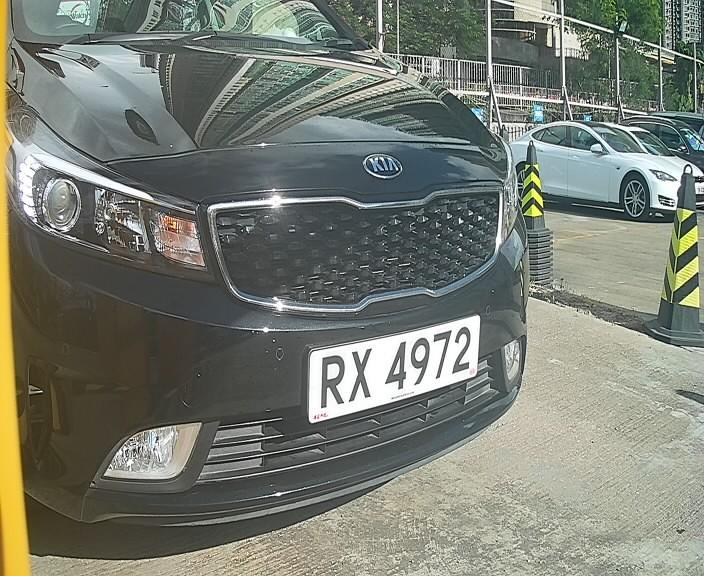License Plate: (302, 314, 475, 430)
